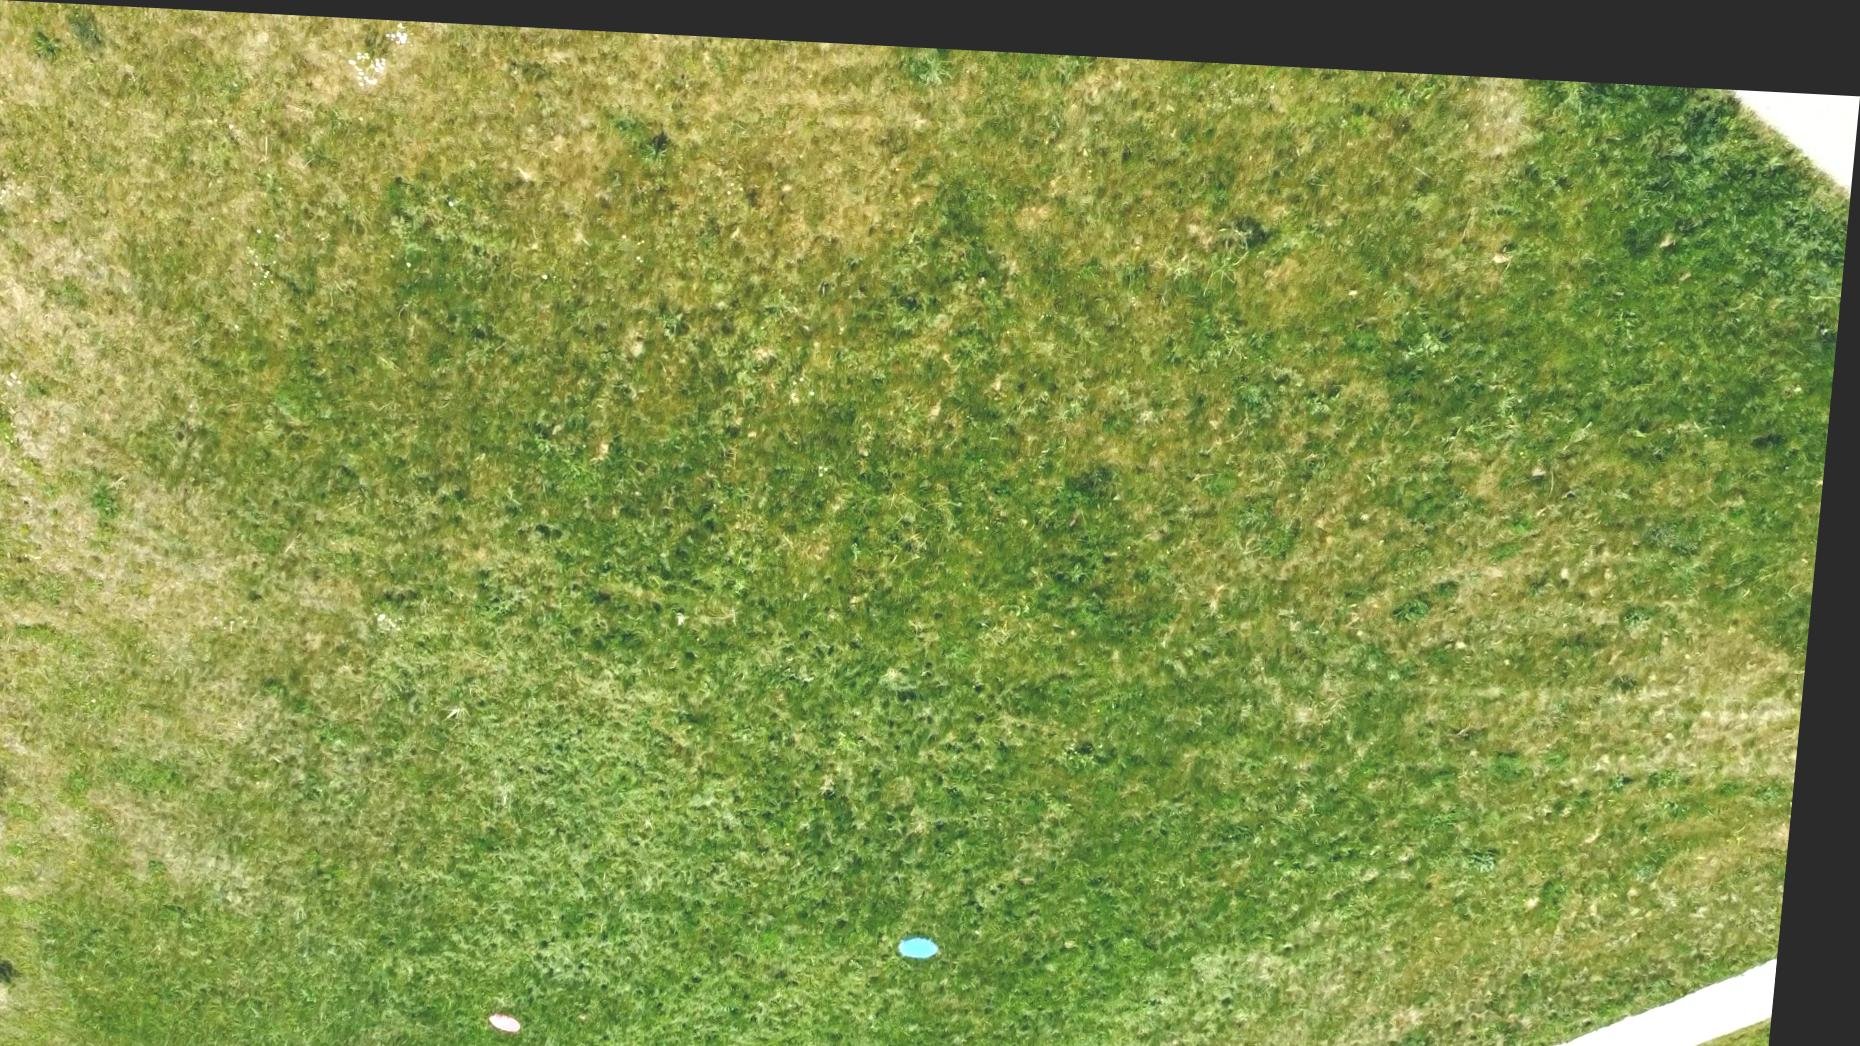Blue: (915, 922, 961, 951)
Red: (506, 990, 545, 1014)
